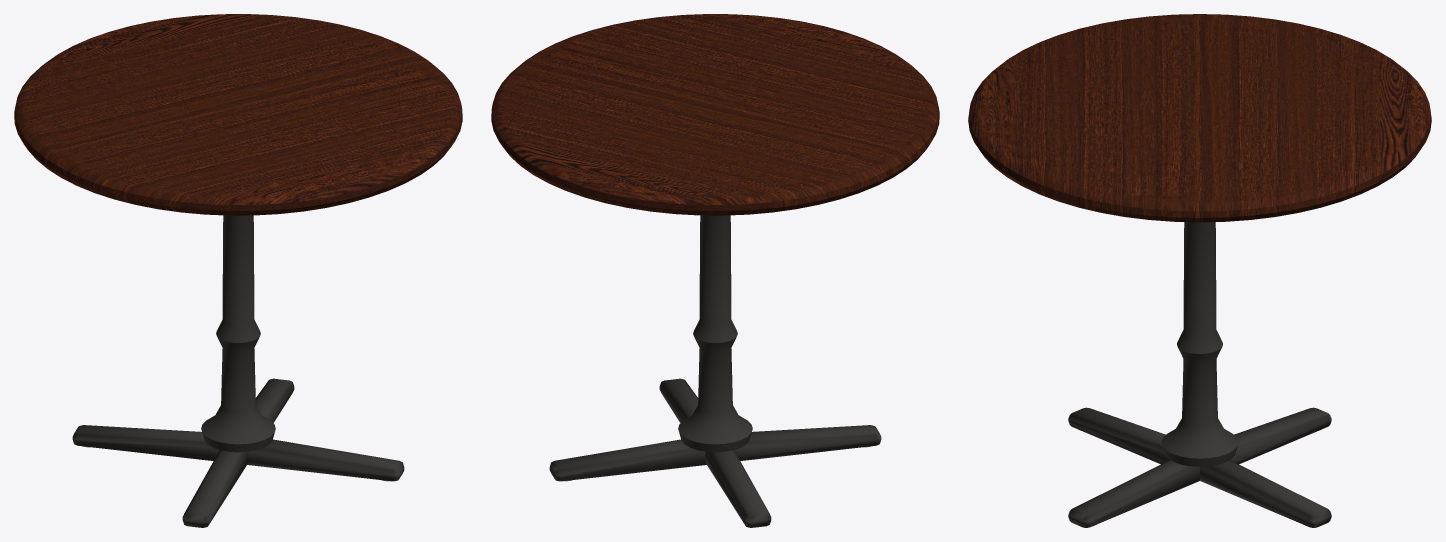
The model's file is round_table.glb.
3 renders of one model, left to right at view 1: azimuth 30°, elevation 25°; view 2: azimuth 150°, elevation 25°; view 3: azimuth 270°, elevation 25°, orthographic. The views are drawn at different scales.
Visible parts, largest first — view 1: Top, Cast iron; view 2: Top, Cast iron; view 3: Top, Cast iron.
Part boxes in pixels (bbox=[...]): Top: bbox=[14, 14, 462, 215]; Cast iron: bbox=[72, 215, 404, 527]; Top: bbox=[491, 14, 939, 215]; Cast iron: bbox=[549, 215, 881, 527]; Top: bbox=[968, 14, 1431, 222]; Cast iron: bbox=[1068, 222, 1331, 527].
Bounding box in the file's own units: 0.9 × 0.785 × 0.9.
Materials: 3 (1 with a texture image).
